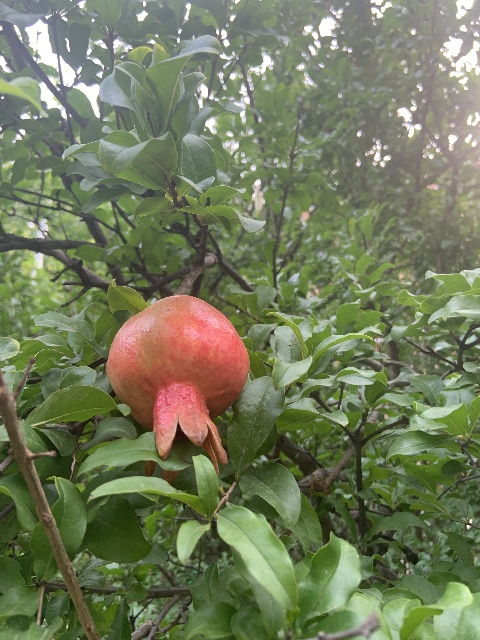ripe: (106, 295, 250, 475)
